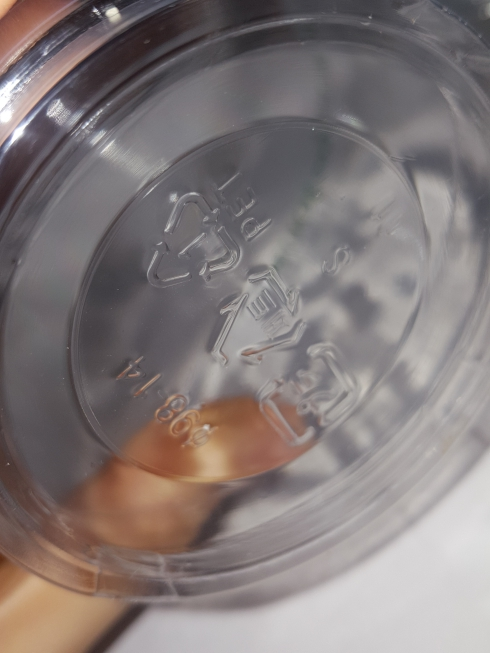recycle: (142, 161, 276, 288)
